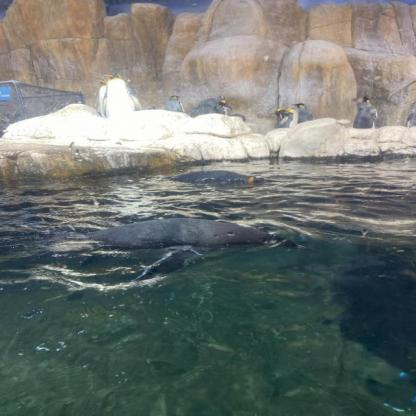penguin: (60, 217, 292, 278), (170, 166, 269, 190), (106, 71, 145, 117), (353, 91, 381, 130), (272, 106, 300, 134), (157, 93, 186, 117), (95, 80, 114, 116), (293, 99, 317, 126), (217, 99, 241, 123), (198, 92, 228, 110), (406, 98, 416, 127)
